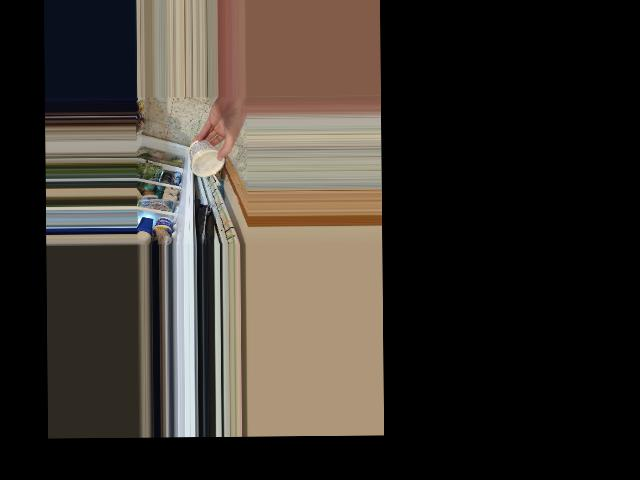cotage: (189, 136, 228, 176)
